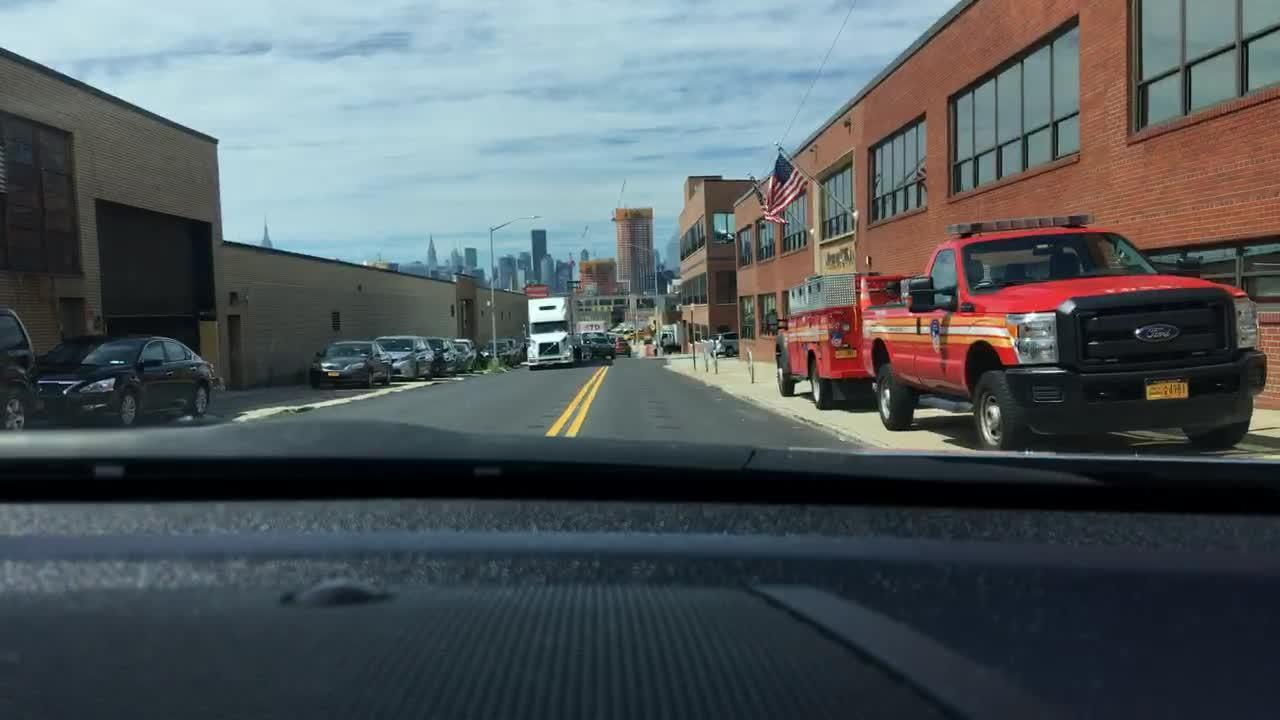ford: (1132, 317, 1186, 344)
